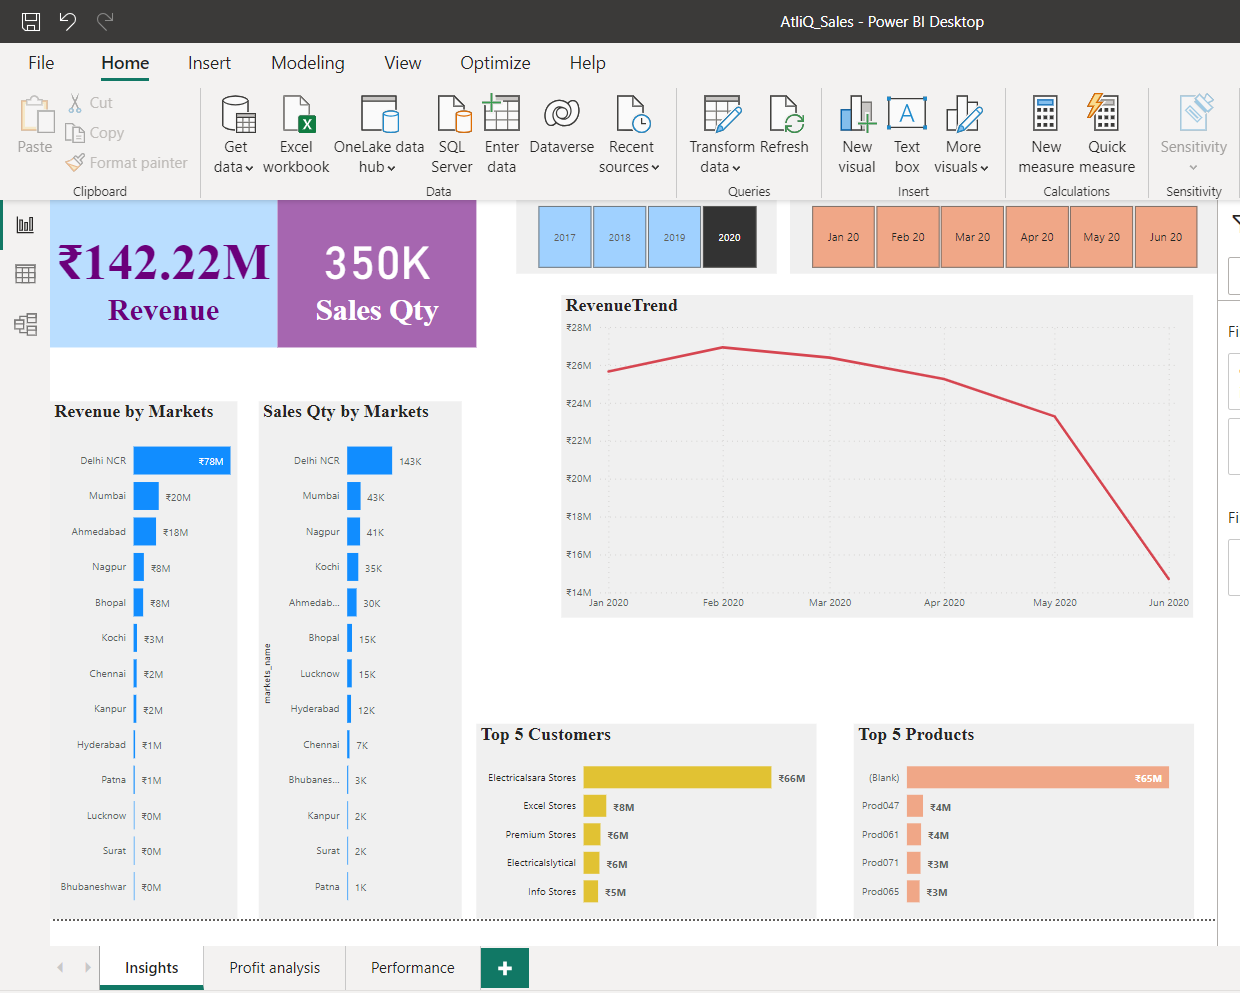

The dashboard page shown, as its layout file describes it:
{"tool":"powerbi","page":{"name":"Insights","canvas":[1380,850],"ordinal":0},"visuals":[{"type":"card","fields":{"Values":["BaseMeasures.Revenue"]},"box":[0,0,236.7,174.6],"z":0},{"type":"card","fields":{"Values":["BaseMeasures.Sales Qty"]},"box":[251.5,0,235.2,174.6],"z":1000},{"type":"barChart","title":"Revenue by Markets","fields":{"Y":["BaseMeasures.Revenue"],"Category":["markets.markets_name"]},"box":[0,238.2,221.9,612.5],"z":2000},{"type":"barChart","title":"Sales Qty by Markets","fields":{"Category":["markets.markets_name"],"Y":["BaseMeasures.Sales Qty"]},"box":[247.1,238.2,239.7,612.5],"z":3000},{"type":"slicer","fields":{"Values":["Date.year"]},"box":[551.8,0,307.7,87.3],"z":4000},{"type":"slicer","fields":{"Values":["Date.cy_date"]},"box":[874.3,0,506,87.3],"z":5000},{"type":"barChart","title":" Top 5 Customers","fields":{"Y":["BaseMeasures.Revenue"],"Category":["customer.customer_name"]},"box":[504.5,619.9,402.4,230.8],"z":6000},{"type":"barChart","title":" Top 5 Products","fields":{"Y":["BaseMeasures.Revenue"],"Category":["products.product_code"]},"box":[949.8,619.9,402.4,230.8],"z":7000},{"type":"lineChart","title":"RevenueTrend","fields":{"Y":["BaseMeasures.Revenue"],"Category":["Date.cy_date.Variation.Date Hierarchy.Year","Date.cy_date.Variation.Date Hierarchy.Quarter","Date.cy_date.Variation.Date Hierarchy.Month","Date.cy_date.Variation.Date Hierarchy.Day"]},"box":[605.1,112.4,747.1,381.7],"z":8000}]}

Visuals, with their boxes on the page's 1380x850 design canvas (x1, y1, x2, y2). These are canvas units, not pixel positions in the 1240x993 screenshot, which may show the page scaled, cropped or inside an application window:
card - BaseMeasures.Revenue: [left=0, top=0, right=237, bottom=175]
card - BaseMeasures.Sales Qty: [left=252, top=0, right=487, bottom=175]
"Revenue by Markets" barChart: [left=0, top=238, right=222, bottom=851]
"Sales Qty by Markets" barChart: [left=247, top=238, right=487, bottom=851]
slicer - Date.year: [left=552, top=0, right=860, bottom=87]
slicer - Date.cy_date: [left=874, top=0, right=1380, bottom=87]
" Top 5 Customers" barChart: [left=504, top=620, right=907, bottom=851]
" Top 5 Products" barChart: [left=950, top=620, right=1352, bottom=851]
"RevenueTrend" lineChart: [left=605, top=112, right=1352, bottom=494]
